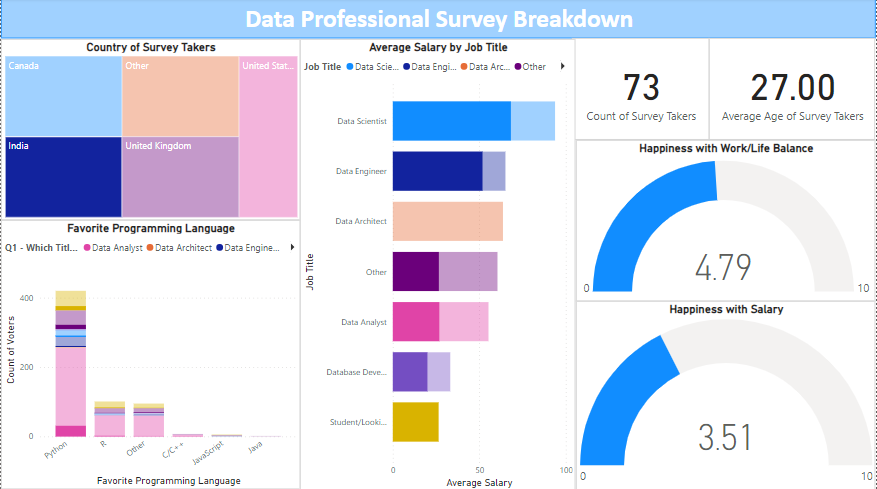

This screenshot's page, from the dashboard's own definition file:
{"tool":"powerbi","page":{"name":"Page 1","canvas":[1280,720],"ordinal":0},"visuals":[{"type":"textbox","box":[0,0,1280,58.7],"z":0},{"type":"card","fields":{"Values":["CountNonNull(Data Professional Survey.Unique ID)"]},"box":[835.4,58.7,201.3,149.3],"z":1000},{"type":"card","fields":{"Values":["Avg(Data Professional Survey.Q10 - Current Age)"]},"box":[1036.7,58.7,243.3,149.3],"z":2000},{"type":"barChart","title":"Average Salary by Job Title","fields":{"Category":["Data Professional Survey.Q1 - Which Title Best Fits your Current Role?.1"],"Y":["Avg(Data Professional Survey.Average Salary)"],"Series":["Data Professional Survey.Q1 - Which Title Best Fits your Current Role?.1"]},"box":[438.3,59.8,403.4,660.8],"z":3000},{"type":"columnChart","title":"Favorite Programming Language","fields":{"Category":["Data Professional Survey.Q5 - Favorite Programming Language.1"],"Y":["CountNonNull(Data Professional Survey.Unique ID)"],"Series":["Data Professional Survey.Q1 - Which Title Best Fits your Current Role?.1"]},"box":[0,324.9,437.6,393.7],"z":4000},{"type":"treemap","title":"Country of Survey Takers","fields":{"Group":["Data Professional Survey.Q11 - Which Country do you live in?.1"],"Values":["Count(Data Professional Survey.Q11 - Which Country do you live in?.1)"]},"box":[0,60,437.6,264.9],"z":5000},{"type":"gauge","title":"Happiness with Work/Life Balance","fields":{"Y":["Avg(Data Professional Survey.Q6 - How Happy are you in your Current Position with the following? (Work/Life Balance))"],"MinValue":["Min(Data Professional Survey.Q6 - How Happy are you in your Current Position with the following? (Work/Life Balance))1"],"MaxValue":["Max(Data Professional Survey.Q6 - How Happy are you in your Current Position with the following? (Work/Life Balance))2"]},"box":[841.7,207.5,438.3,235.7],"z":6000},{"type":"gauge","title":"Happiness with Salary","fields":{"Y":["Avg(Data Professional Survey.Q6 - How Happy are you in your Current Position with the following? (Salary))"],"MinValue":["Min(Data Professional Survey.Q6 - How Happy are you in your Current Position with the following? (Salary))"],"MaxValue":["Max(Data Professional Survey.Q6 - How Happy are you in your Current Position with the following? (Salary))"]},"box":[841.7,443.3,438.3,277.3],"z":7000}]}

Visuals, with their boxes in screenshot pixels (x1, y1, x2, y2), scaled from the page's 1280x720 canvas onto the 877x489 screenshot:
textbox: <box>0,0,876,40</box>
card - CountNonNull(Data Professional Survey.Unique ID): <box>572,40,710,141</box>
card - Avg(Data Professional Survey.Q10 - Current Age): <box>710,40,876,141</box>
"Average Salary by Job Title" barChart: <box>300,41,577,488</box>
"Favorite Programming Language" columnChart: <box>0,221,300,488</box>
"Country of Survey Takers" treemap: <box>0,41,300,221</box>
"Happiness with Work/Life Balance" gauge: <box>577,141,876,301</box>
"Happiness with Salary" gauge: <box>577,301,876,488</box>
